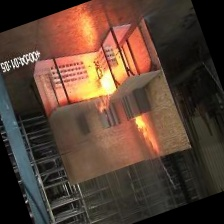fire: (69, 46, 123, 110), (123, 103, 166, 157)
